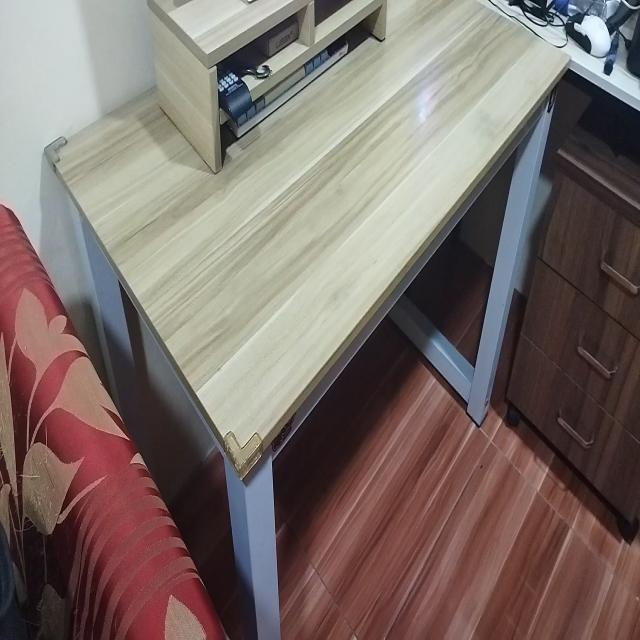table: (42, 0, 574, 640)
